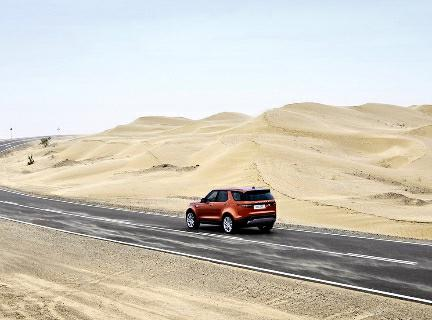路虎-揽胜运动版: (180, 184, 282, 234)
